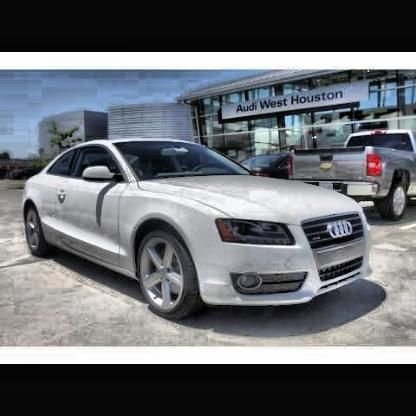Audi A5 Coupe 2012: (23, 138, 371, 320)
